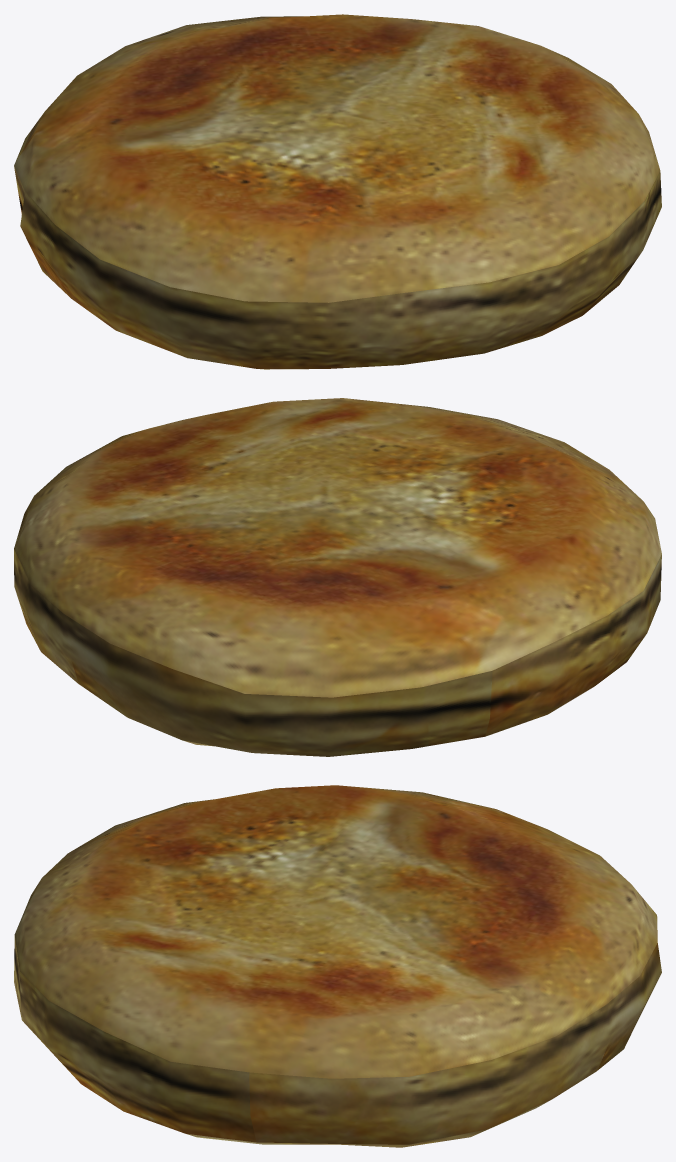
The model's file is shaobing.FBX.
3 renders of one model, top to bottom at view 1: azimuth 30°, elevation 25°; view 2: azimuth 150°, elevation 25°; view 3: azimuth 270°, elevation 25°, orthographic.
Visible parts, largest first — view 1: shaobing; view 2: shaobing; view 3: shaobing.
Boxes of the visible parts, <box> form: shaobing: <box>14,14,661,369</box>; shaobing: <box>14,398,661,756</box>; shaobing: <box>14,785,661,1147</box>.
Bounding box in the file's own units: 19.74 × 5.12 × 19.79.
Materials: 1 (1 with a texture image).
